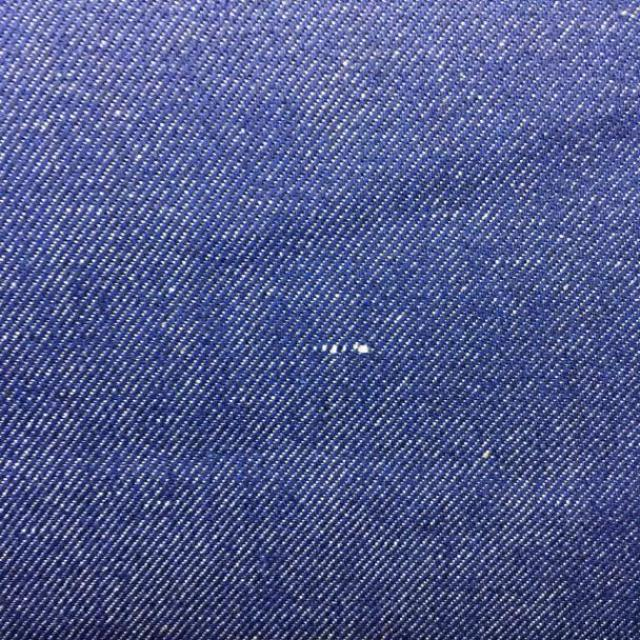Knot: (313, 342, 372, 356)
